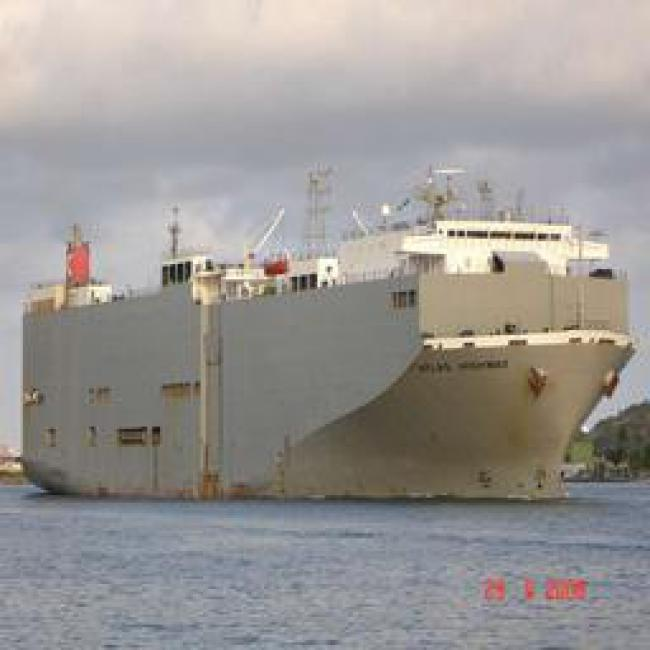Ship: (3, 250, 642, 508)
